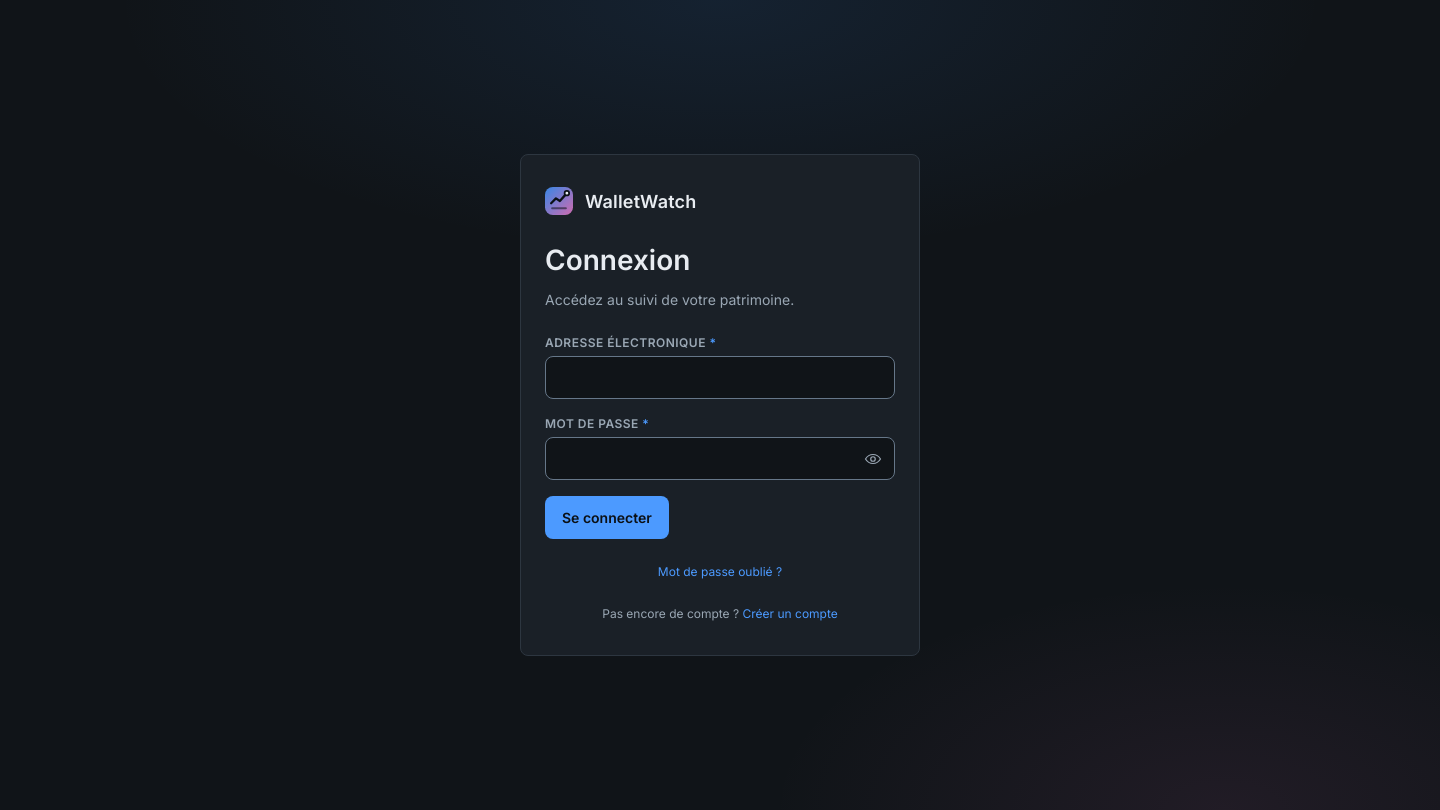
Test: écran de connexion › affiche le message du serveur sans le reformuler
# La soumission passe par le formulaire : c'est le chemin réel de l'utilisateur.
Click the button "Se connecter" at point(607, 518), box [545,496,669,539]
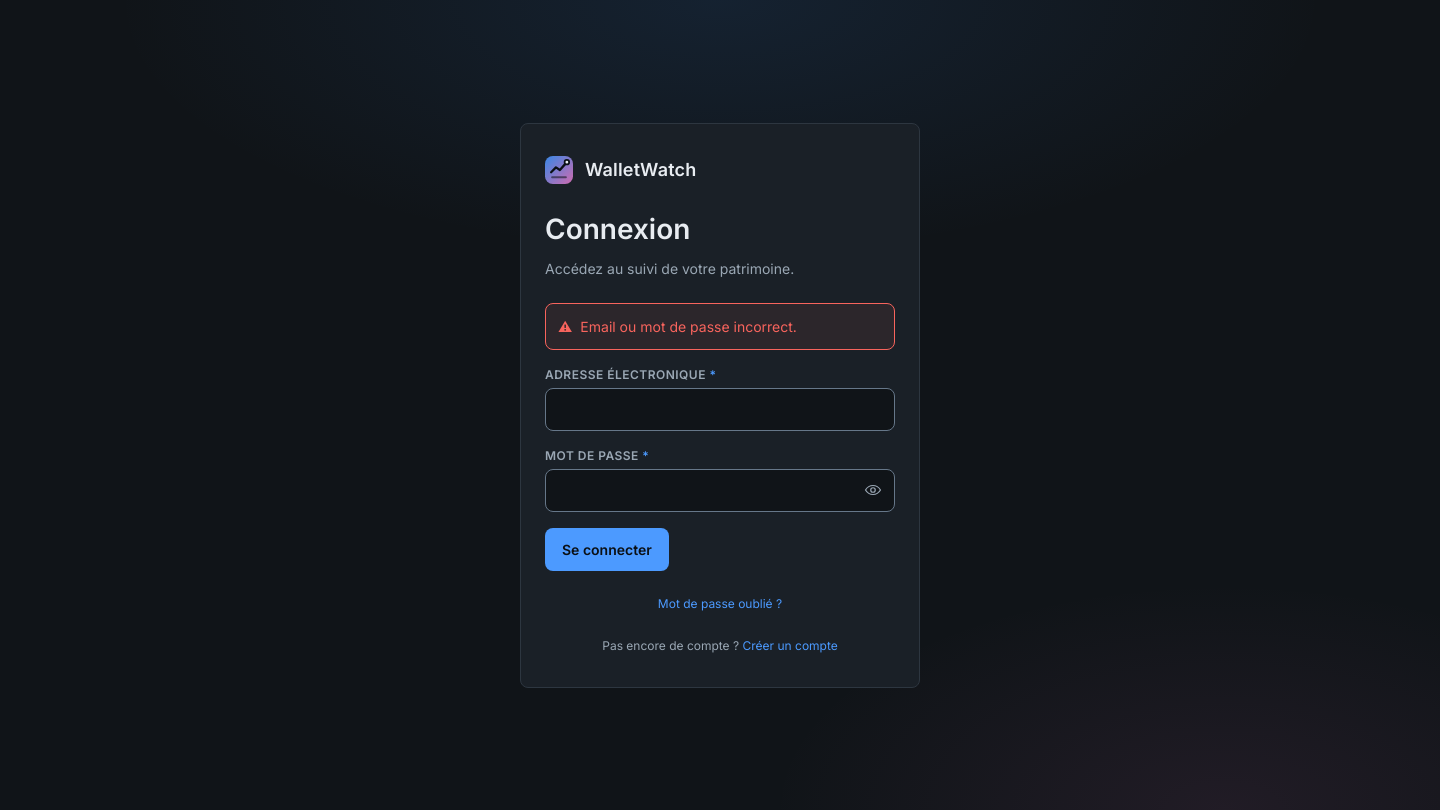
Expected: the message shows "Email ou mot de passe incorrect.", [580,318,797,334]
